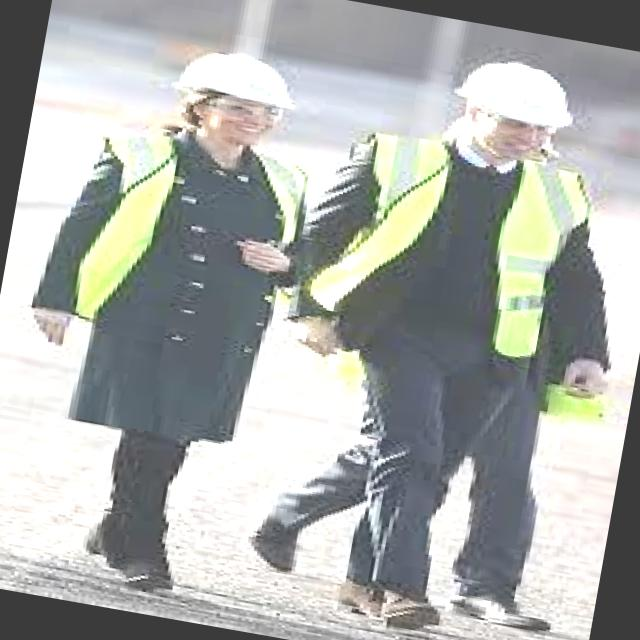goggles: (187, 88, 294, 130), (468, 106, 566, 142)
helmet: (167, 39, 309, 130), (446, 51, 584, 136)
vest: (290, 120, 601, 368), (54, 109, 310, 341)
